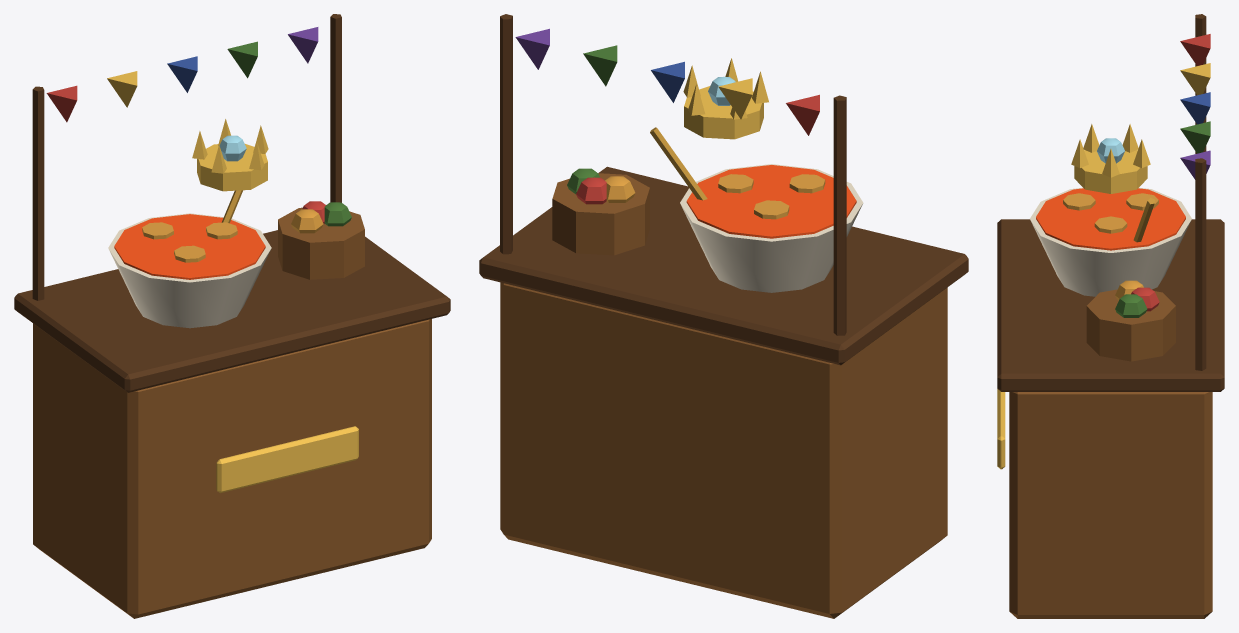
File: PR_Station_Punc_T3.fbx
3 renders of one model, left to right at view 1: azimuth 30°, elevation 25°; view 2: azimuth 150°, elevation 25°; view 3: azimuth 270°, elevation 25°, orthographic. The views are drawn at different scales.
Parts seen in each view (by area): view 1: PR_Station_Punc_T3; view 2: PR_Station_Punc_T3; view 3: PR_Station_Punc_T3.
Boxes of the visible parts, box(x1,y1,x2,y2) form: PR_Station_Punc_T3: box(14, 14, 450, 618); PR_Station_Punc_T3: box(479, 14, 968, 618); PR_Station_Punc_T3: box(997, 14, 1224, 618).
Bounding box in the file's own units: 0.92 × 1.25 × 0.56.
